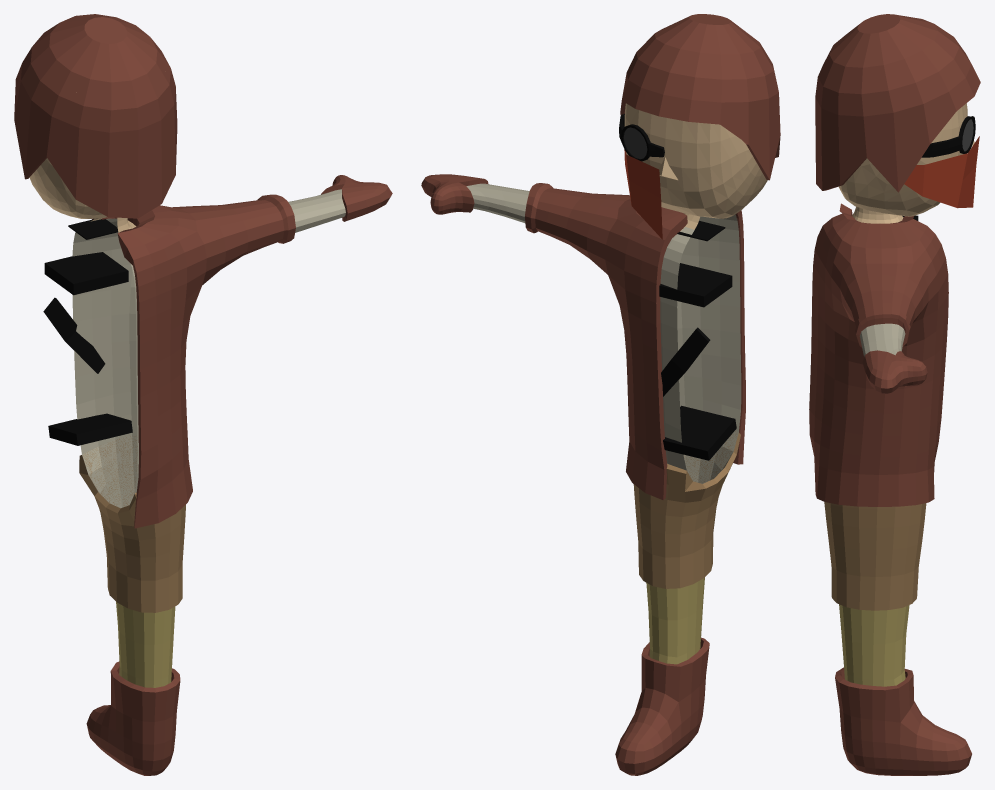
The model's file is character.glb.
3 renders of one model, left to right at view 1: azimuth 30°, elevation 25°; view 2: azimuth 150°, elevation 25°; view 3: azimuth 270°, elevation 25°, orthographic. The views are drawn at different scales.
Visible parts, largest first — view 1: Cube.003, Circle, Cube, Cube.004, Plane.003, Plane.004, Cube.006, Plane, Plane.002; view 2: Cube, Cube.003, Circle, Cube.004, Plane.004, Plane.001, Plane.003, Cube.006, Plane, Circle.001; view 3: Cube.003, Circle, Cube, Cube.004, Plane.001, Cube.006, Circle.001.
Part boxes in pixels (bbox=[...]): Cube.003: bbox=[86, 194, 295, 775]; Circle: bbox=[14, 14, 177, 218]; Cube: bbox=[29, 92, 345, 687]; Cube.004: bbox=[79, 436, 185, 612]; Plane.003: bbox=[44, 252, 128, 295]; Plane.004: bbox=[48, 413, 132, 445]; Cube.006: bbox=[321, 175, 392, 221]; Plane: bbox=[43, 297, 105, 373]; Plane.002: bbox=[68, 219, 118, 239]; Cube: bbox=[466, 103, 767, 664]; Cube.003: bbox=[525, 183, 745, 775]; Circle: bbox=[620, 14, 780, 180]; Cube.004: bbox=[633, 431, 740, 588]; Plane.004: bbox=[663, 405, 736, 460]; Plane.001: bbox=[624, 149, 662, 239]; Plane.003: bbox=[659, 263, 732, 307]; Cube.006: bbox=[421, 174, 488, 214]; Plane: bbox=[661, 327, 710, 396]; Circle.001: bbox=[619, 113, 664, 161]; Cube.003: bbox=[809, 203, 971, 775]; Circle: bbox=[815, 14, 980, 192]; Cube: bbox=[839, 103, 974, 686]; Cube.004: bbox=[824, 502, 926, 610]; Plane.001: bbox=[904, 136, 979, 208]; Cube.006: bbox=[862, 350, 927, 393]; Circle.001: bbox=[921, 116, 975, 157].
Bounding box in the file's own units: 4.35 × 8.73 × 1.85.
